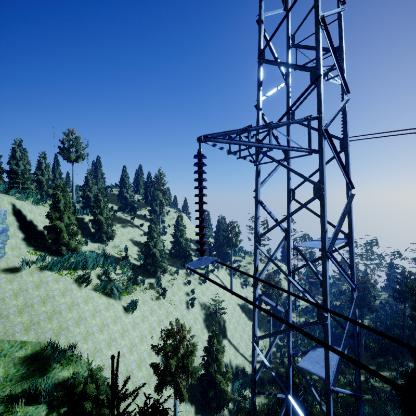insulator: (191, 152, 212, 257)
